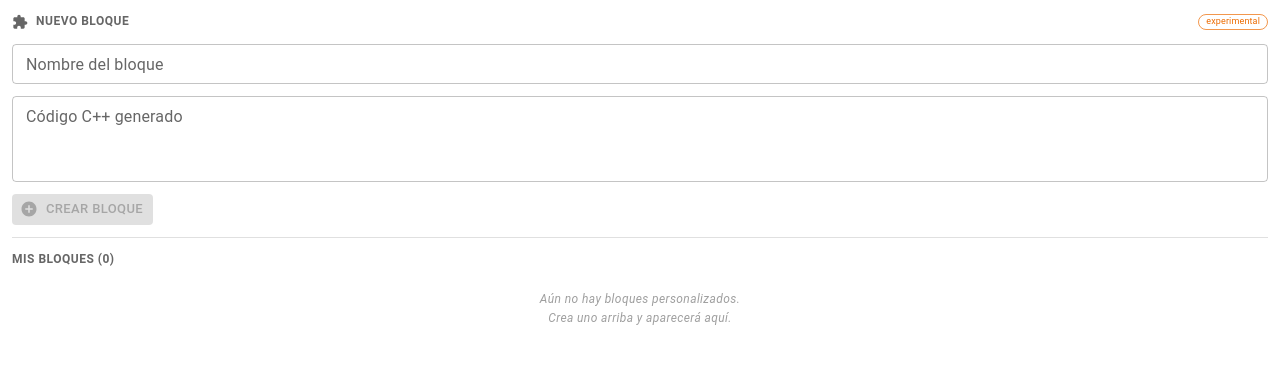
Test: CustomBlocksPanel › valida que haya nombre y código
// El botón está deshabilitado sin datos, así que se usa Enter para forzar la validación
Press Enter in the field labelled "Nombre del bloque", box [12,44,1268,84]
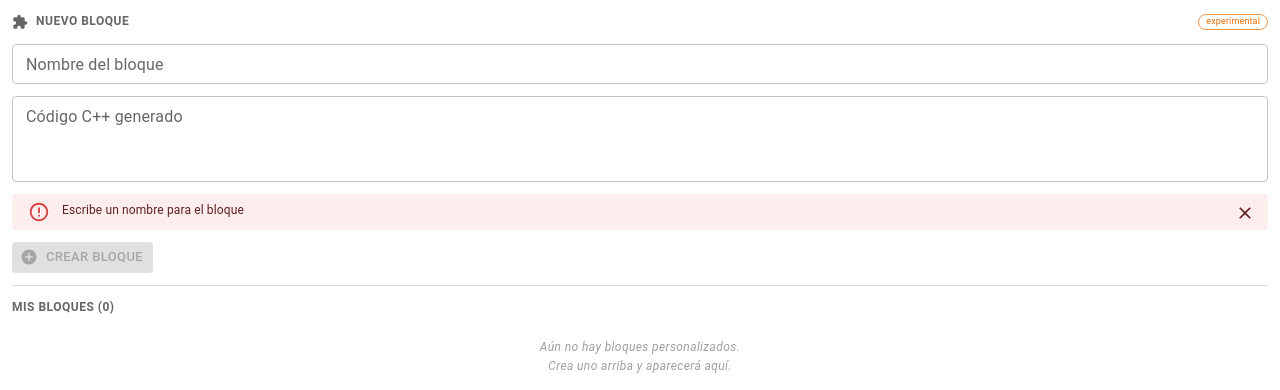
Result: the text "Escribe un nombre para el bloque" is shown at [62,203,244,217]
In the field labelled "Nombre del bloque": (640, 64) [12,44,1268,84], type "Solo nombre"
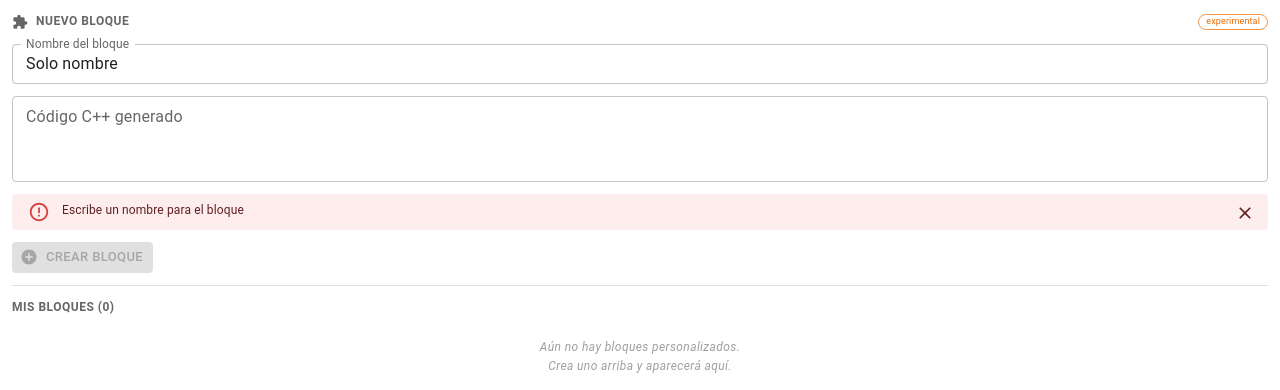
Press Enter in the field labelled "Nombre del bloque", box [12,44,1268,84]
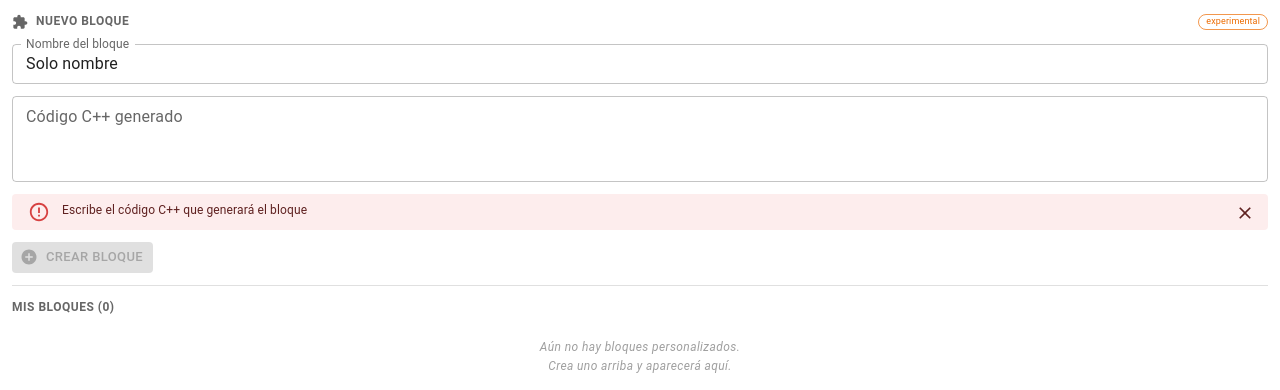
Result: the text "Escribe el código C++ que generará el bloque" is shown at [62,203,307,217]
